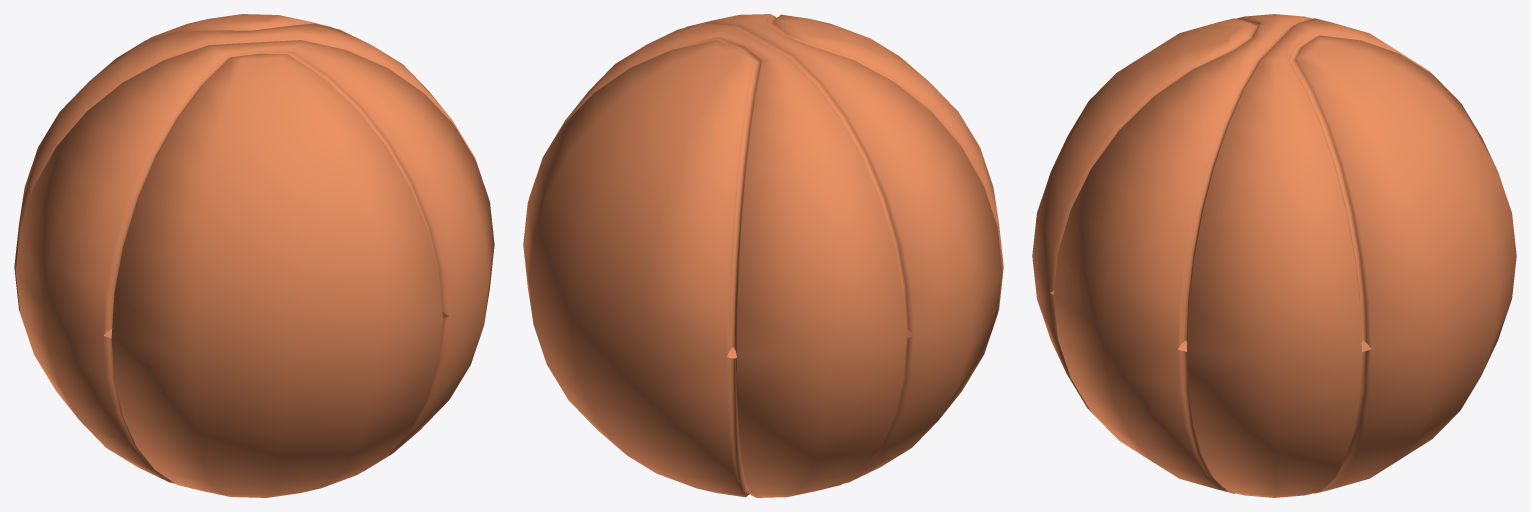
File: basketball2.glb
The picture shows the model from 3 angles, left to right: view 1: azimuth 30°, elevation 25°; view 2: azimuth 150°, elevation 25°; view 3: azimuth 270°, elevation 25°; orthographic projection.
Visible parts, largest first — view 1: Sphere; view 2: Sphere; view 3: Sphere.
Part boxes in pixels (<box>): Sphere: <box>14,14,494,497</box>; Sphere: <box>523,14,1003,497</box>; Sphere: <box>1032,14,1516,497</box>.
Bounding box in the file's own units: 1 × 0.9837 × 1.
